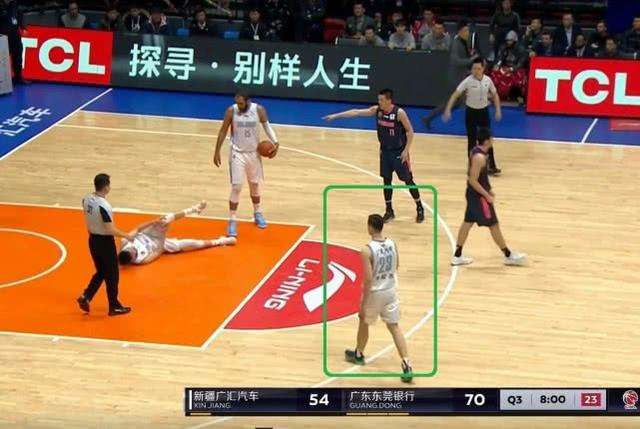10+: (1, 5, 640, 386)
down: (116, 197, 235, 271)
